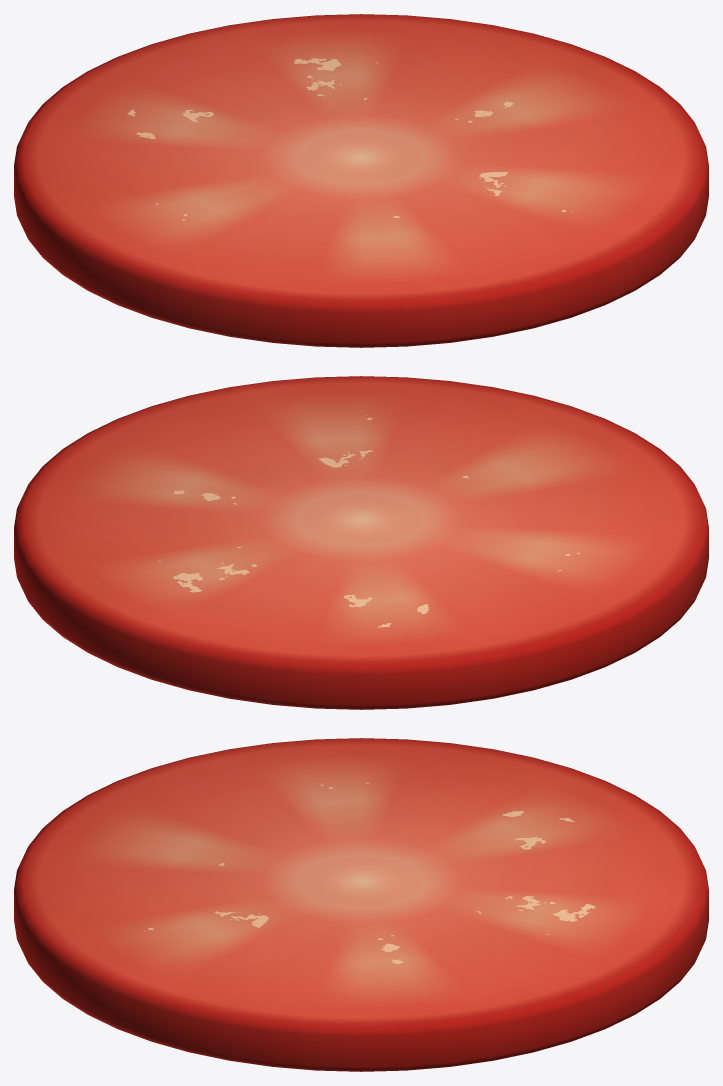
The model's file is tomato.glb.
The picture shows the model from 3 angles, top to bottom: view 1: azimuth 30°, elevation 25°; view 2: azimuth 150°, elevation 25°; view 3: azimuth 270°, elevation 25°; orthographic projection.
Parts seen in each view (by area): view 1: tomato; view 2: tomato; view 3: tomato.
Boxes of the visible parts, x1,y1,x2,y2 form: tomato: (14, 14, 708, 347); tomato: (14, 376, 708, 709); tomato: (14, 738, 708, 1071).
Bounding box in the file's own units: 0.94 × 0.07 × 0.94.
1 material, 1 textured.
